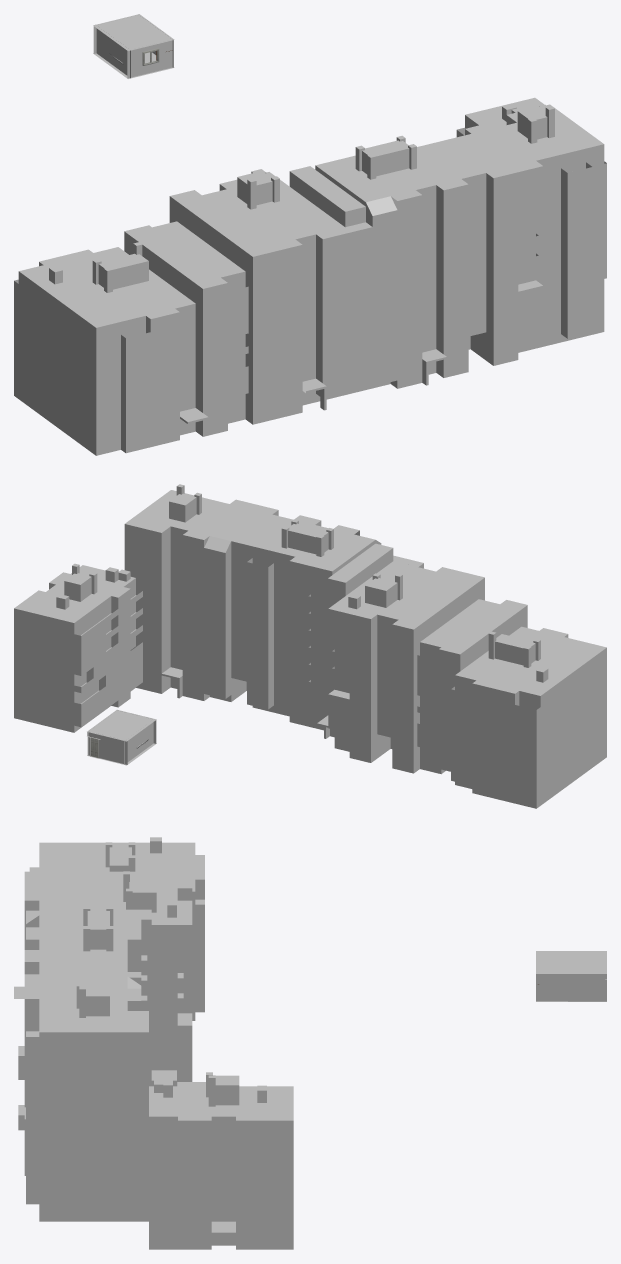
Rendered from 完美卧室.fbx.
The picture shows the model from 3 angles, top to bottom: view 1: azimuth 30°, elevation 25°; view 2: azimuth 150°, elevation 25°; view 3: azimuth 270°, elevation 25°; orthographic projection. The views are drawn at different scales.
Visible parts, largest first — view 1: Object_20, Object_28, Object_15; view 2: Object_20, Object_28, Object_15; view 3: Object_20, Object_28, Object_15.
Part boxes in pixels (x1,y1,x2,y2): Object_20: [14, 97, 606, 455]; Object_28: [93, 26, 173, 78]; Object_15: [93, 14, 174, 50]; Object_20: [14, 484, 606, 808]; Object_28: [87, 720, 156, 764]; Object_15: [87, 709, 156, 741]; Object_20: [14, 837, 293, 1249]; Object_28: [536, 974, 606, 1001]; Object_15: [536, 951, 606, 973].
Bounding box in the file's own units: 6078 × 2169 × 5352.
